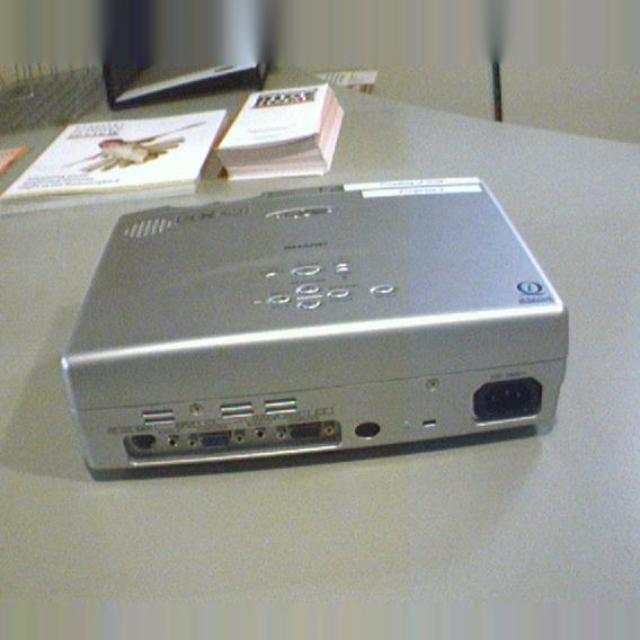Projector: (56, 171, 570, 481)
